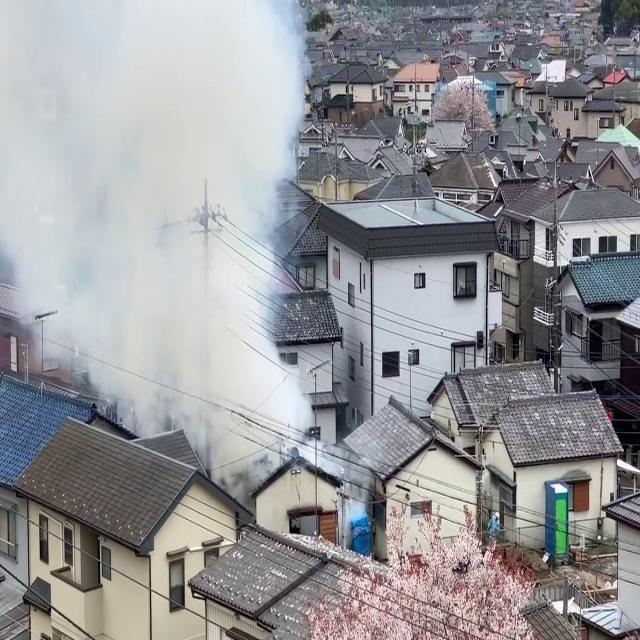Smoke: (3, 0, 320, 476)
